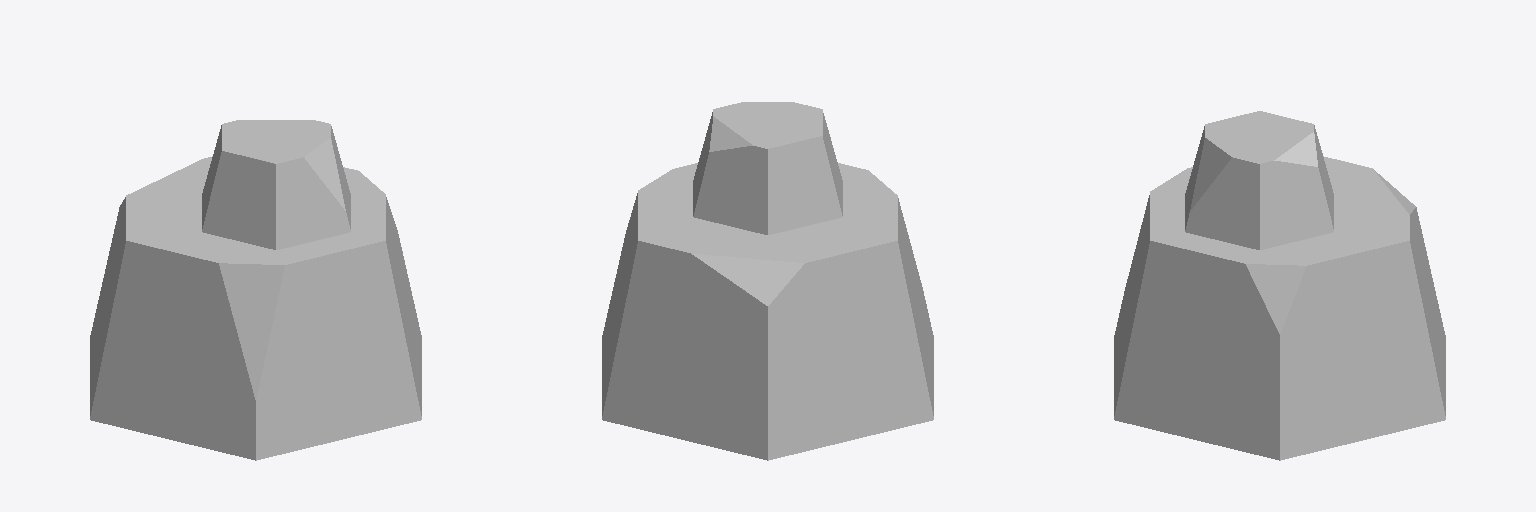
File: stone_small5.obj
The picture shows the model from 3 angles: view 1: azimuth 30°, elevation 25°; view 2: azimuth 150°, elevation 25°; view 3: azimuth 270°, elevation 25°; orthographic projection.
Visible parts, largest first — view 1: stone_small5; view 2: stone_small5; view 3: stone_small5.
Part boxes in pixels (left/top/right/bottom): stone_small5: left=90, top=120, right=421, bottom=460; stone_small5: left=602, top=102, right=933, bottom=460; stone_small5: left=1114, top=111, right=1445, bottom=460.
Bounding box in the file's own units: 3.61 × 2.56 × 3.12.